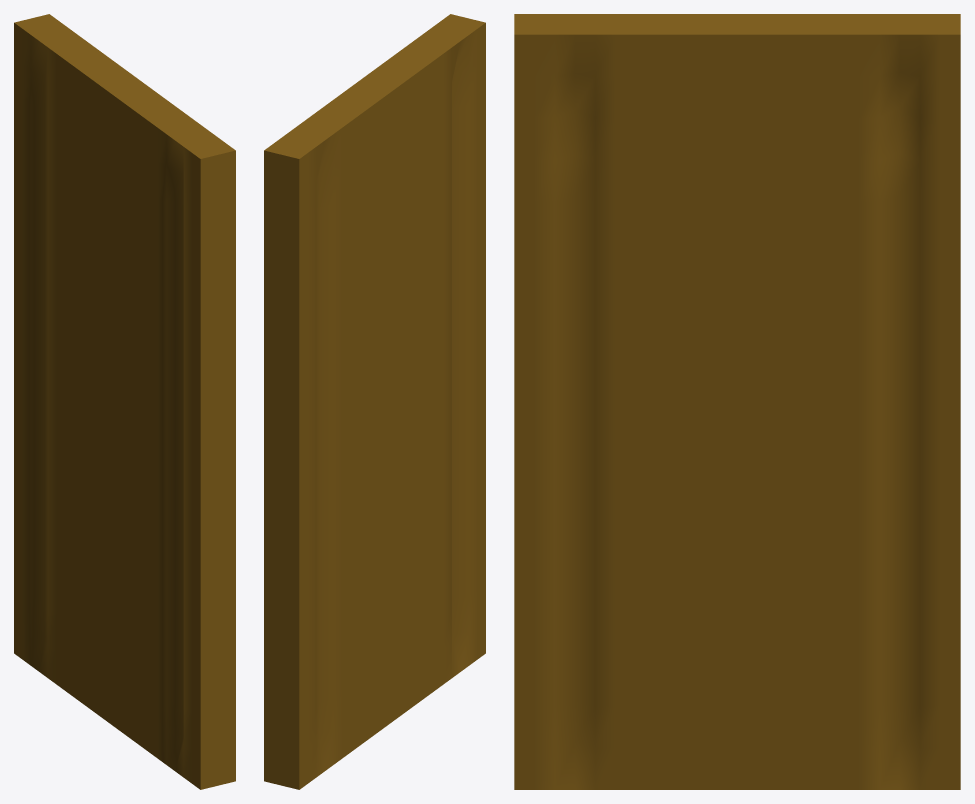
The model's file is door.fbx.
The picture shows the model from 3 angles, left to right: view 1: azimuth 30°, elevation 25°; view 2: azimuth 150°, elevation 25°; view 3: azimuth 270°, elevation 25°; orthographic projection. The views are drawn at different scales.
Visible parts, largest first — view 1: pCube1; view 2: pCube1; view 3: pCube1.
Part boxes in pixels (<box>): pCube1: <box>14,14,235,789</box>; pCube1: <box>264,14,485,789</box>; pCube1: <box>514,14,960,789</box>.
Size of the model in its own units: 0.7584 by 12.94 by 6.93.
